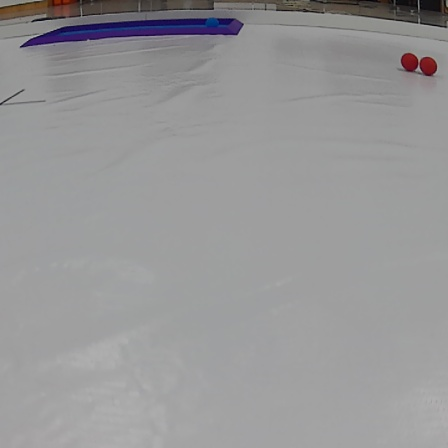blue: (203, 21, 221, 29)
blue_aim: (19, 17, 244, 47)
red: (418, 55, 437, 76), (401, 53, 418, 72)
